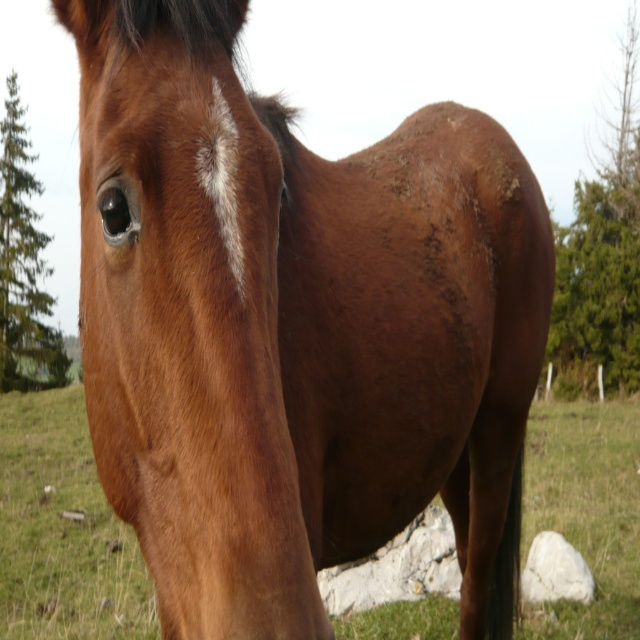Horse: (46, 1, 557, 640)
